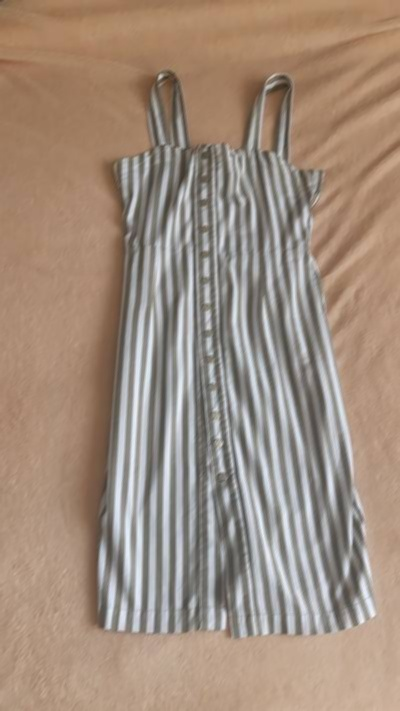Dress: (86, 68, 390, 655)
